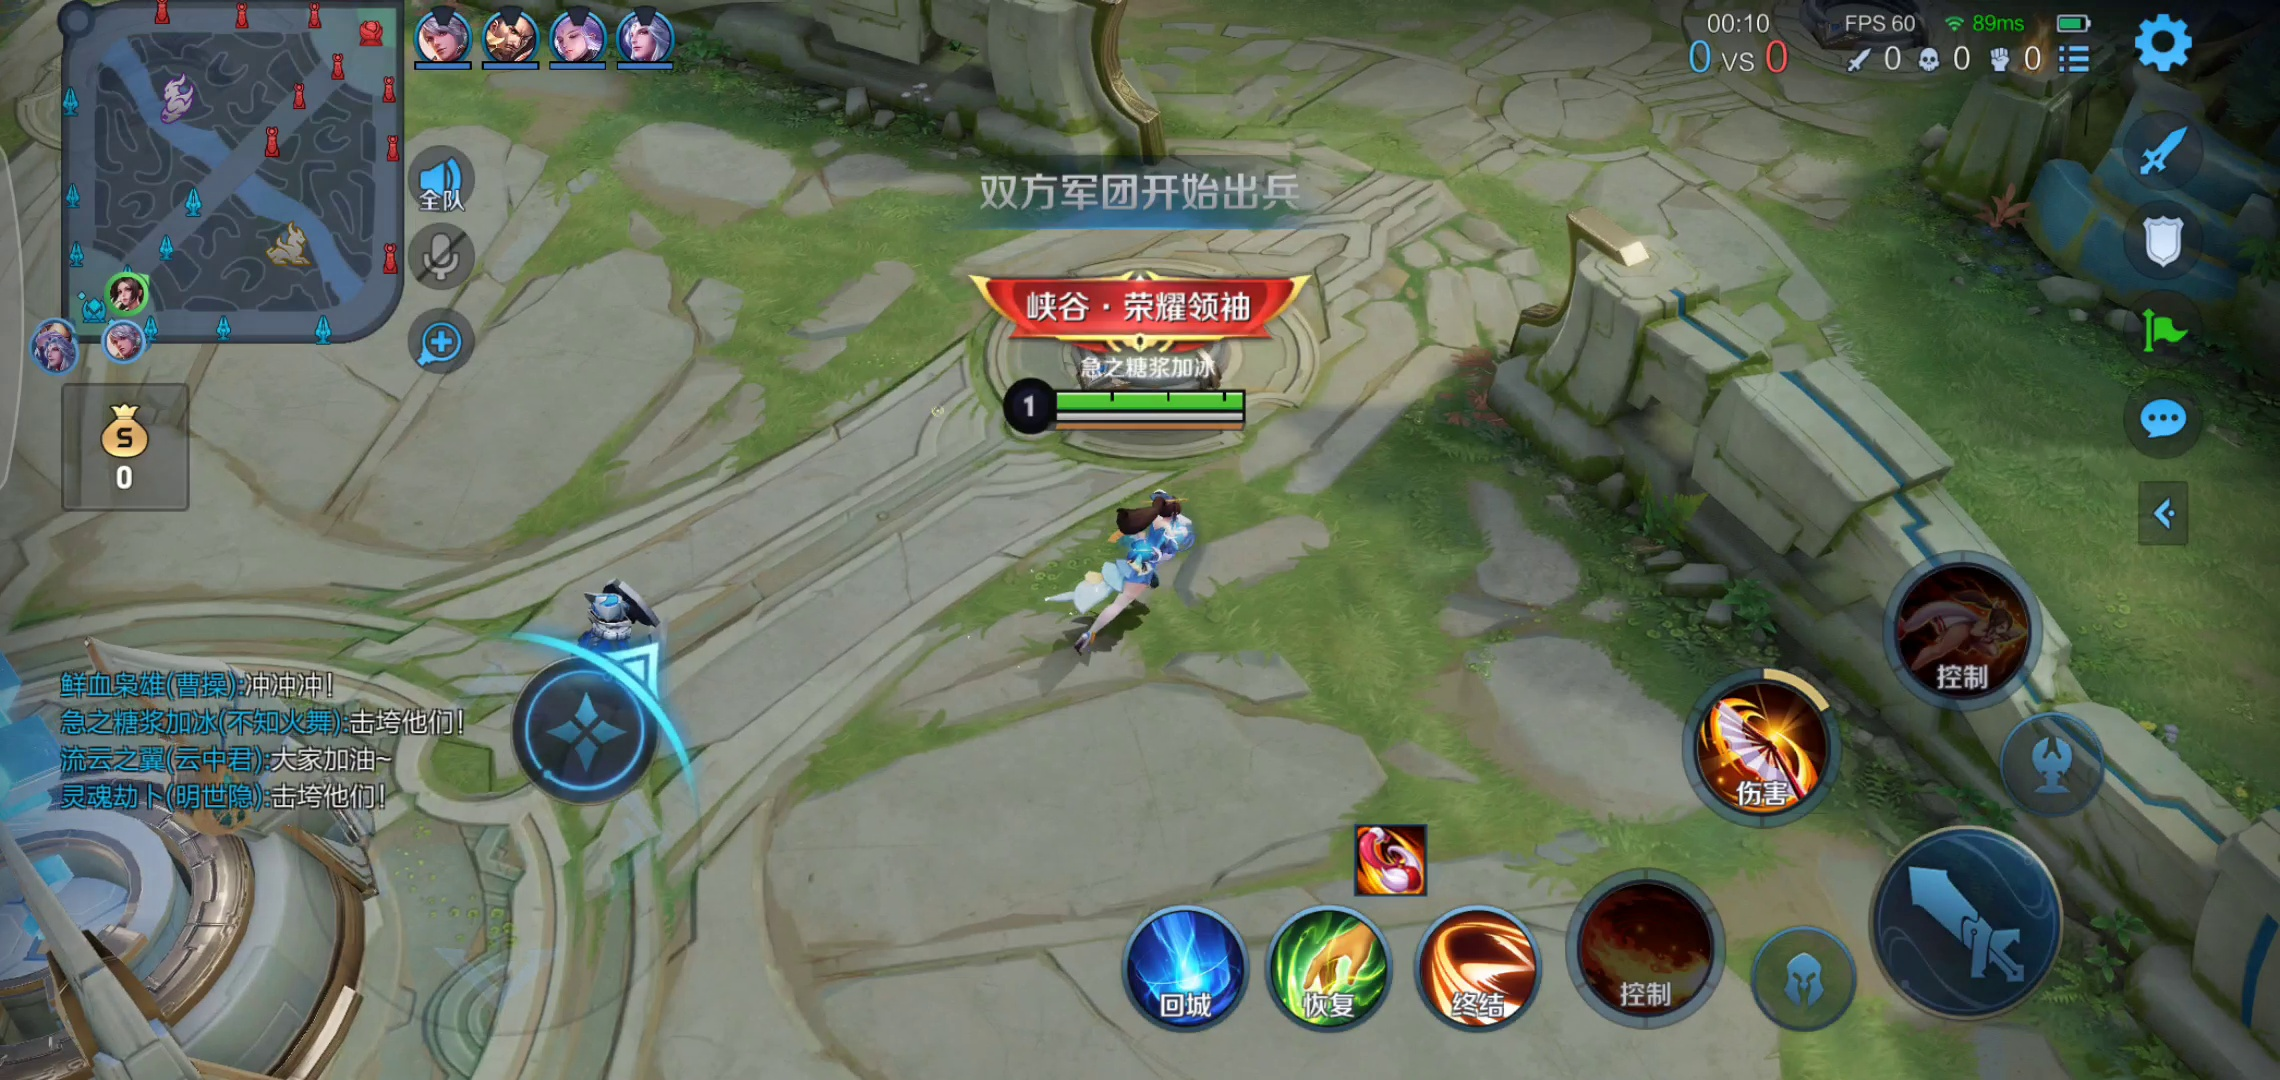crystal: (1, 640, 393, 1079)
hero: (1060, 480, 1203, 664)
soldier: (538, 573, 726, 714)
